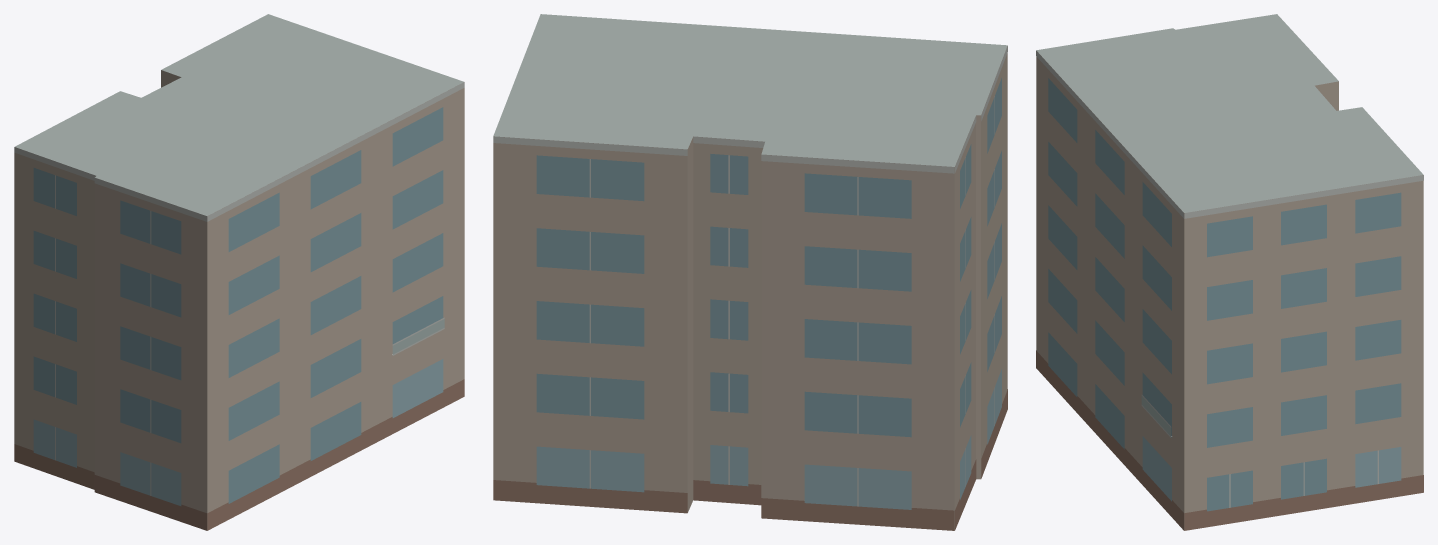
The model's file is survey-upis-32831553.glb.
3 views of the same model, side by side, from view 1: azimuth 30°, elevation 25°; view 2: azimuth 150°, elevation 25°; view 3: azimuth 270°, elevation 25° (orthographic). The views are drawn at different scales.
Parts seen in each view (by area): view 1: survey-upis-32831553.tmp; view 2: survey-upis-32831553.tmp; view 3: survey-upis-32831553.tmp.
Boxes of the visible parts, x1,y1,x2,y2 form: survey-upis-32831553.tmp: (14, 14, 464, 530); survey-upis-32831553.tmp: (493, 14, 1007, 530); survey-upis-32831553.tmp: (1036, 14, 1423, 530).
Size of the model in its own units: 18.02 by 13.4 by 14.83.
